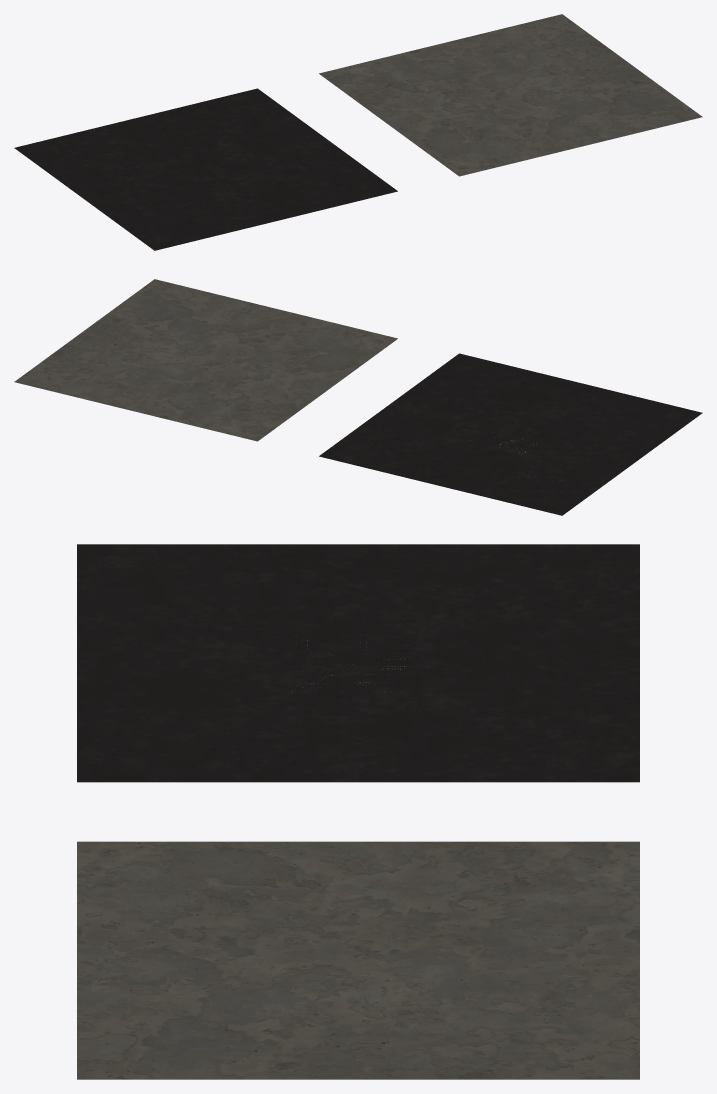
File: werkstatt-boden.glb
3 renders of one model, top to bottom at view 1: azimuth 30°, elevation 25°; view 2: azimuth 150°, elevation 25°; view 3: azimuth 270°, elevation 25°, orthographic. The views are drawn at different scales.
Visible parts, largest first — view 1: floor_asphalt, floor_asphalt_wear; view 2: floor_asphalt, floor_asphalt_wear; view 3: floor_asphalt, floor_asphalt_wear.
Part boxes in pixels (x1,y1,x2,y2): floor_asphalt: (14,88,397,250); floor_asphalt_wear: (319,14,702,176); floor_asphalt: (319,353,702,515); floor_asphalt_wear: (14,279,397,441); floor_asphalt: (77,544,639,782); floor_asphalt_wear: (77,841,639,1079).
Bounding box in the file's own units: 9 × 0 × 4.
28 materials, 28 textured.
